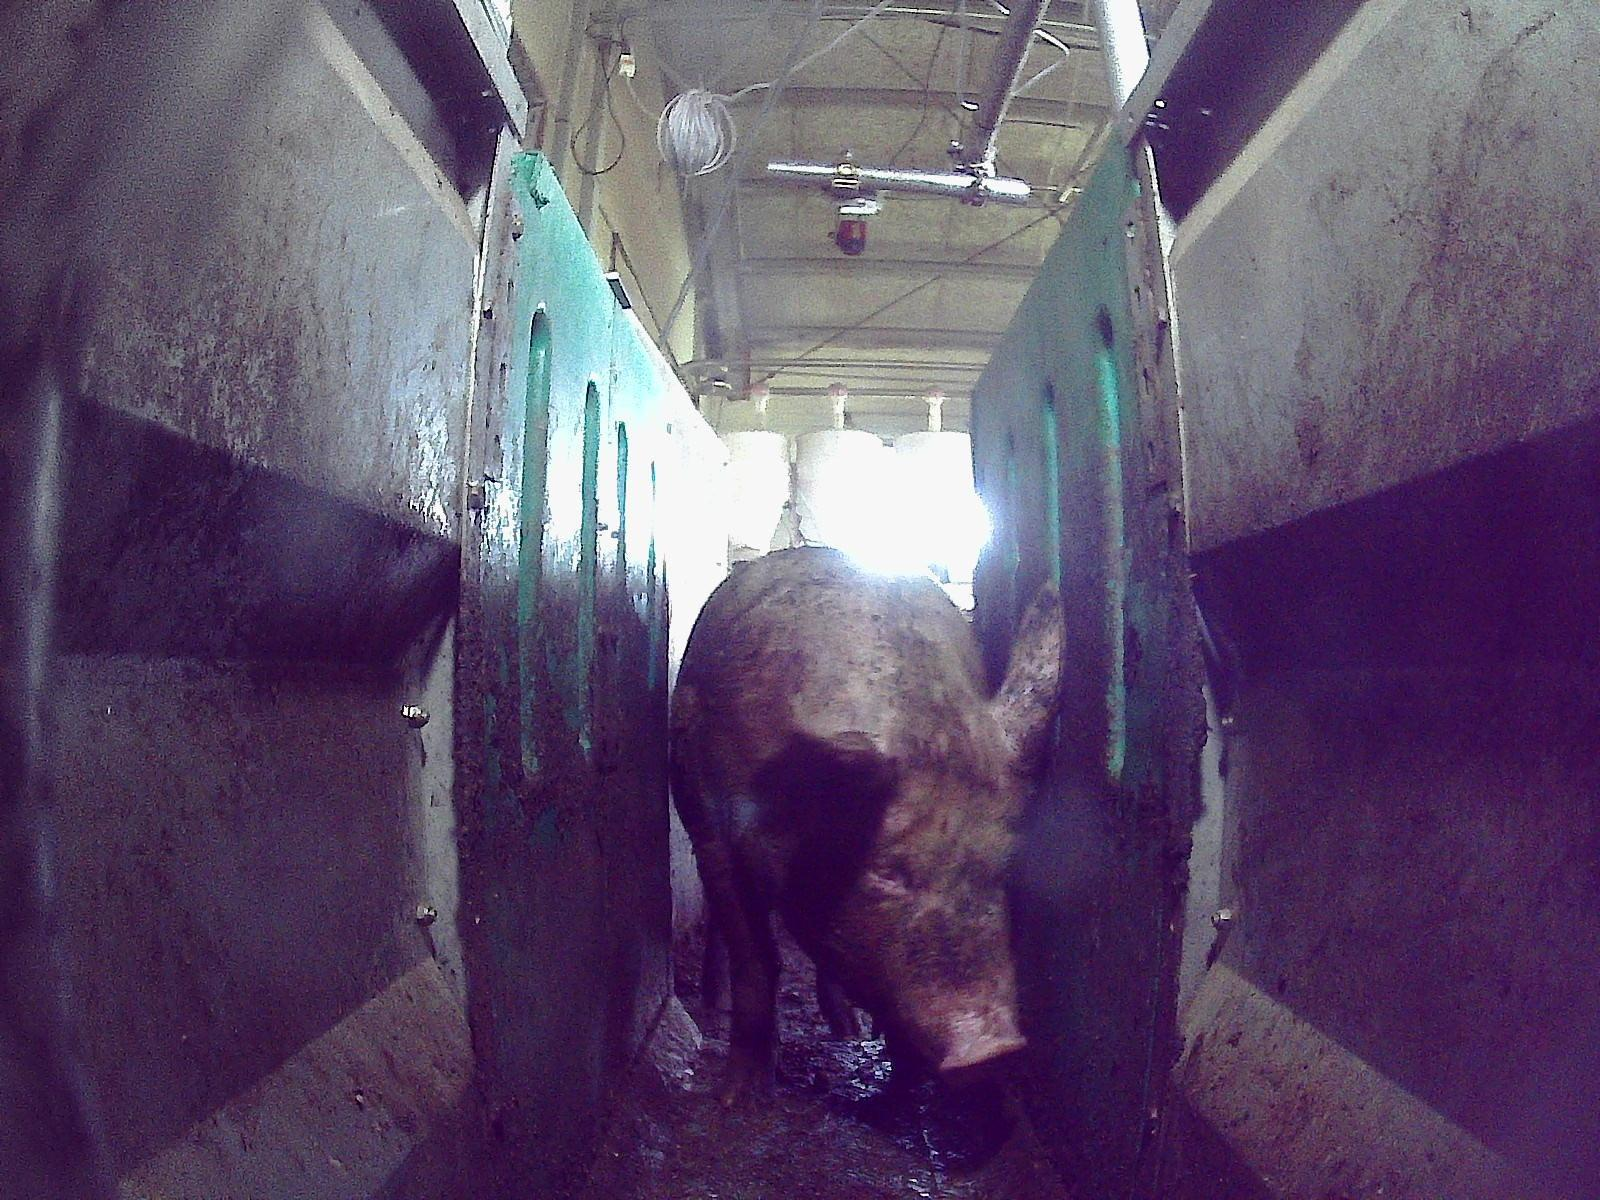Face: (820, 737, 1031, 1077)
